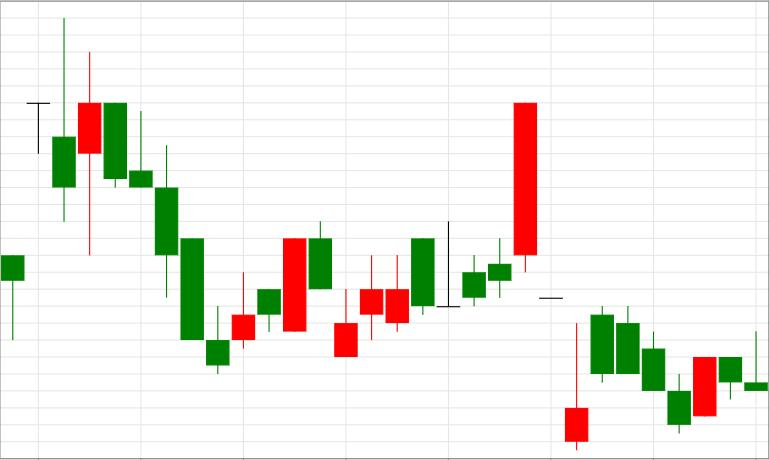inverse_hammer_rise: (104, 103, 230, 374)
